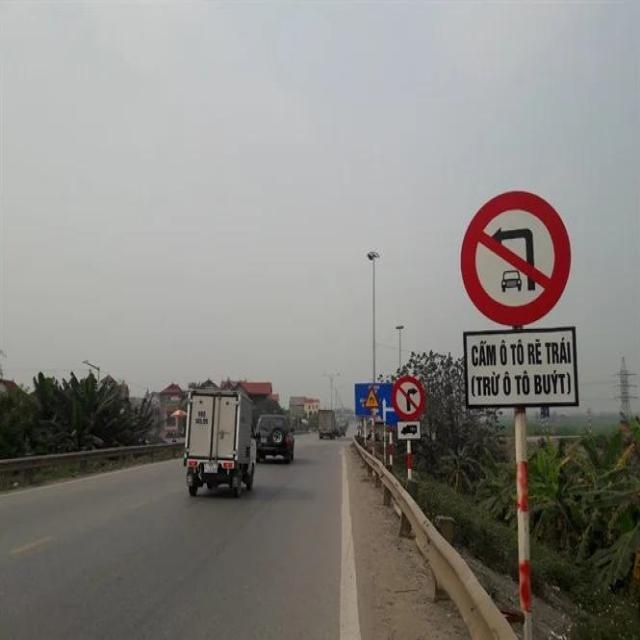bien_cam: (460, 189, 568, 326), (391, 378, 425, 424)
